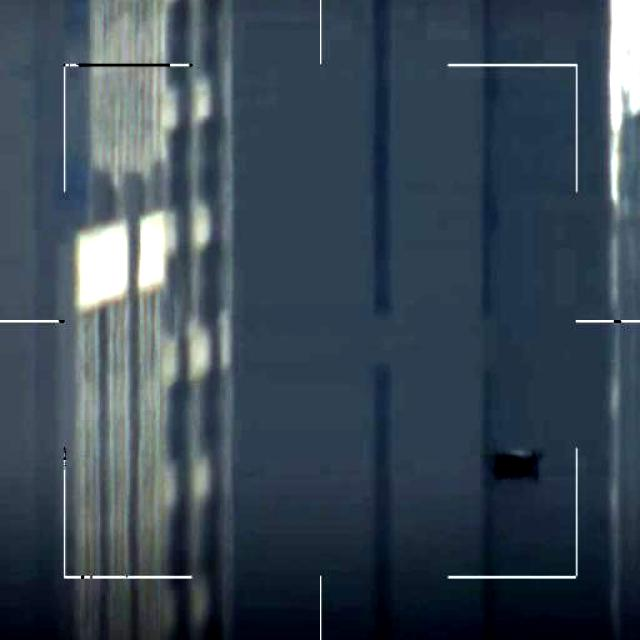bird: (491, 444, 544, 486)
